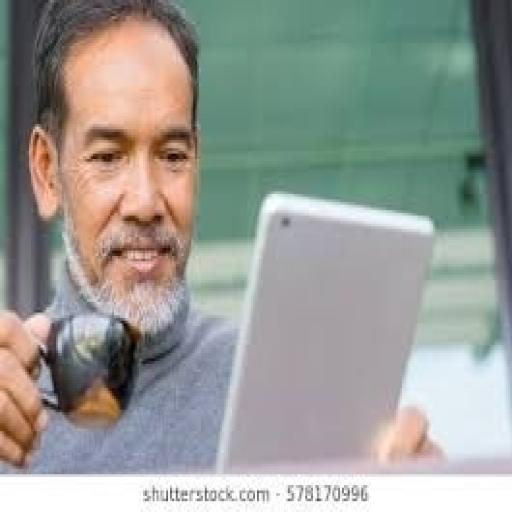texting: (0, 0, 444, 471)
